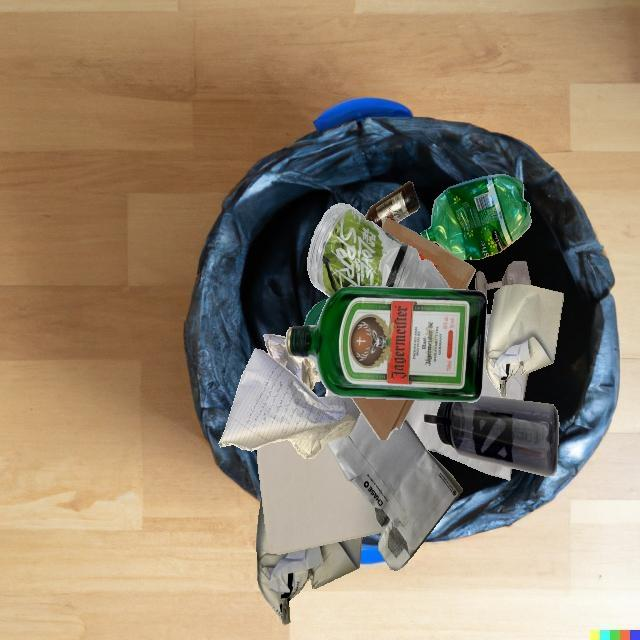cardboard: (382, 218, 475, 290), (351, 398, 415, 440)
glass: (285, 286, 487, 402), (365, 181, 419, 228), (475, 261, 531, 299)
paper: (327, 412, 463, 571), (219, 348, 361, 459), (257, 440, 383, 554), (256, 495, 362, 625), (486, 284, 564, 398), (405, 418, 512, 480), (325, 397, 523, 426), (264, 334, 321, 391), (483, 314, 491, 370)
plastic: (307, 203, 450, 297), (424, 396, 559, 476), (420, 174, 532, 260), (303, 298, 329, 326)
